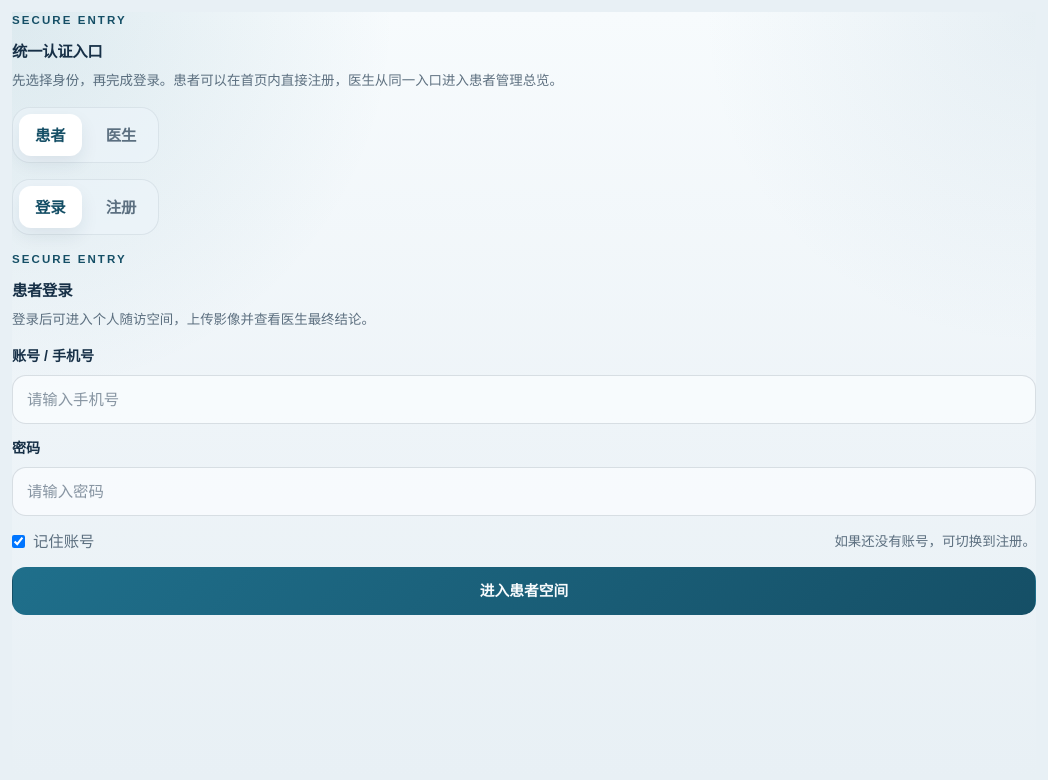
Test: UnifiedAuthCard › switches to doctor mode and hides the patient register toggle
Click the button "医生": [121, 135] box [90,114,152,156]
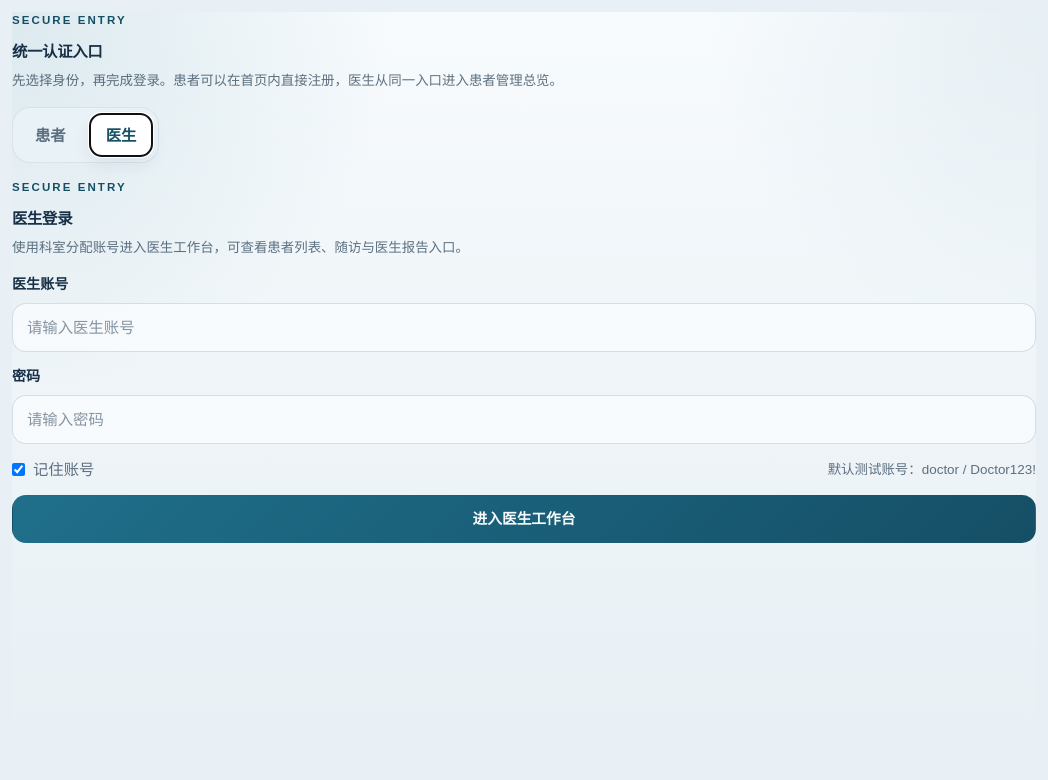
Now the heading "医生登录" is shown, box [12,210,72,227]
